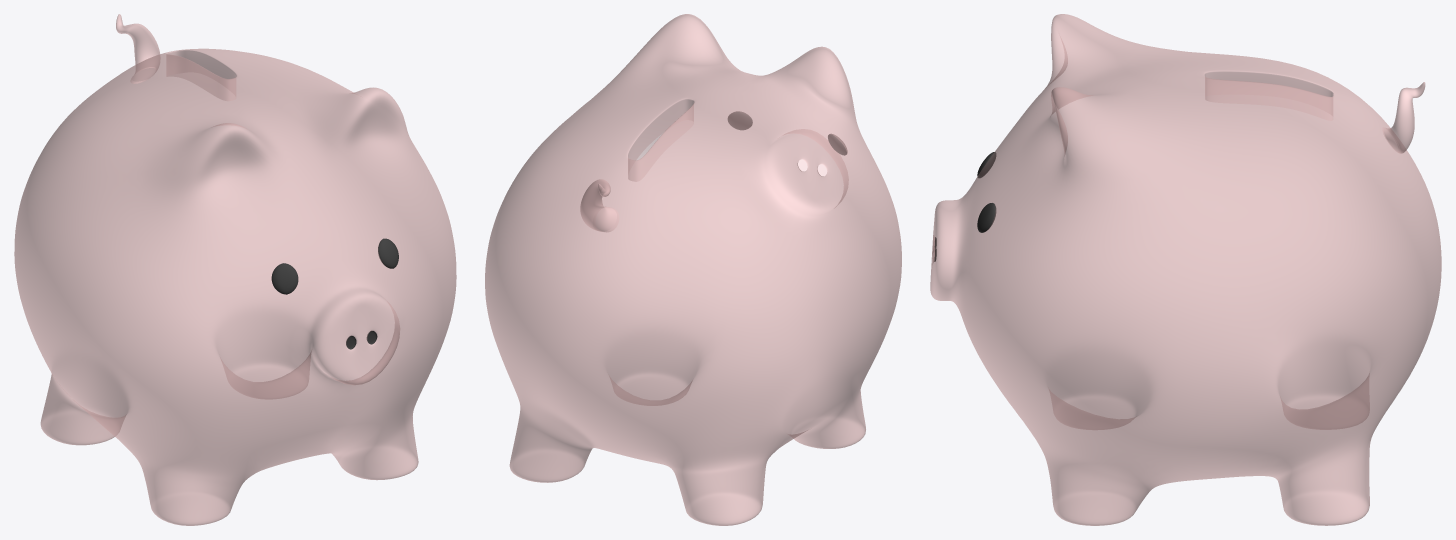
File: piggy.gltf
3 views of the same model, side by side, from view 1: azimuth 30°, elevation 25°; view 2: azimuth 150°, elevation 25°; view 3: azimuth 270°, elevation 25° (orthographic). The views are drawn at different scales.
Visible parts, largest first — view 1: Buffer Layer (×2); view 2: Buffer Layer (×2); view 3: Buffer Layer (×2).
Boxes of the visible parts, left/top/right/bottom form: Buffer Layer (×2): left=14, top=14, right=456, bottom=525; Buffer Layer (×2): left=485, top=14, right=901, bottom=525; Buffer Layer (×2): left=930, top=14, right=1441, bottom=525.
Size of the model in its own units: 0.0853 by 0.0887 by 0.1.
